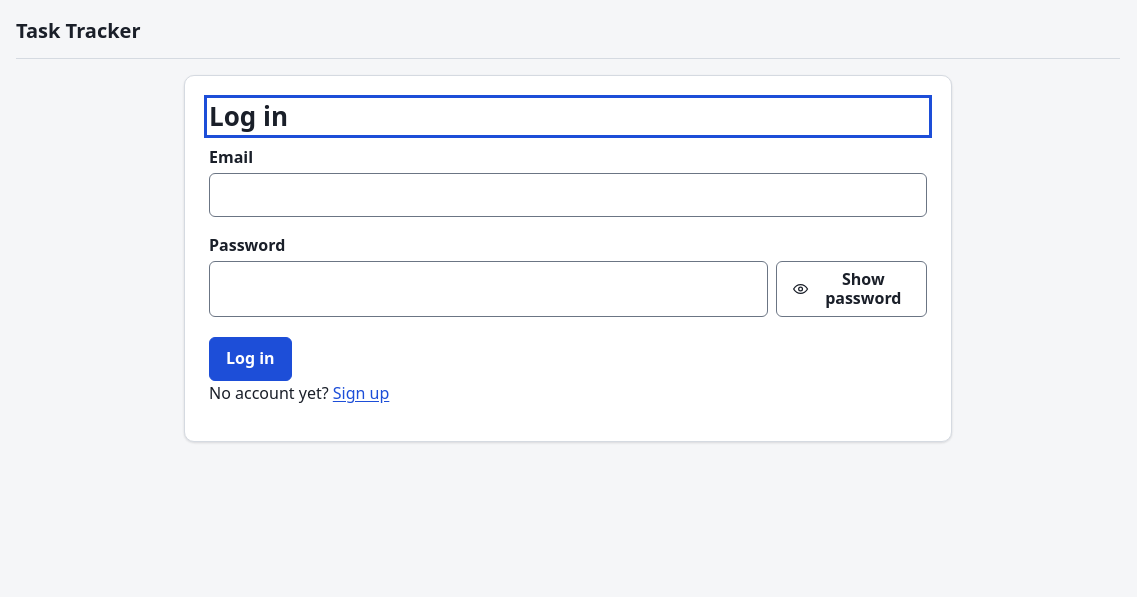
protected routes and "from" › login → back to the page you wanted
Type "alice@example.com" into the field labelled "Email" at (568, 194), box [209, 172, 927, 216]
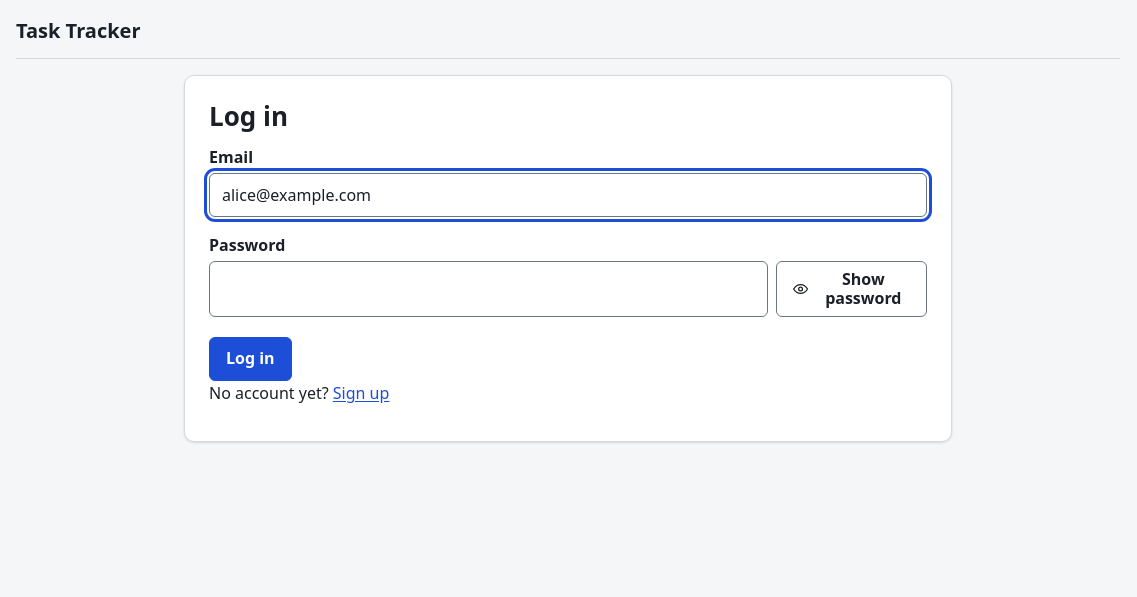
Type "DemoPass123" into the password field labelled "Password" at (489, 289), box [209, 260, 768, 317]
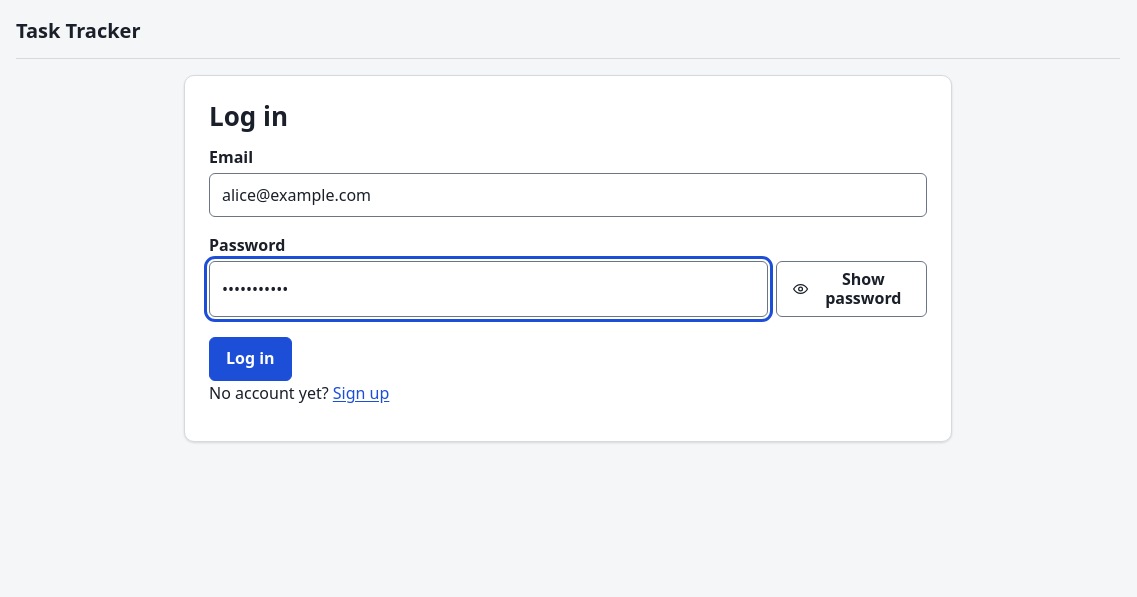
Click the button "Log in" at (250, 359), box [209, 337, 292, 381]
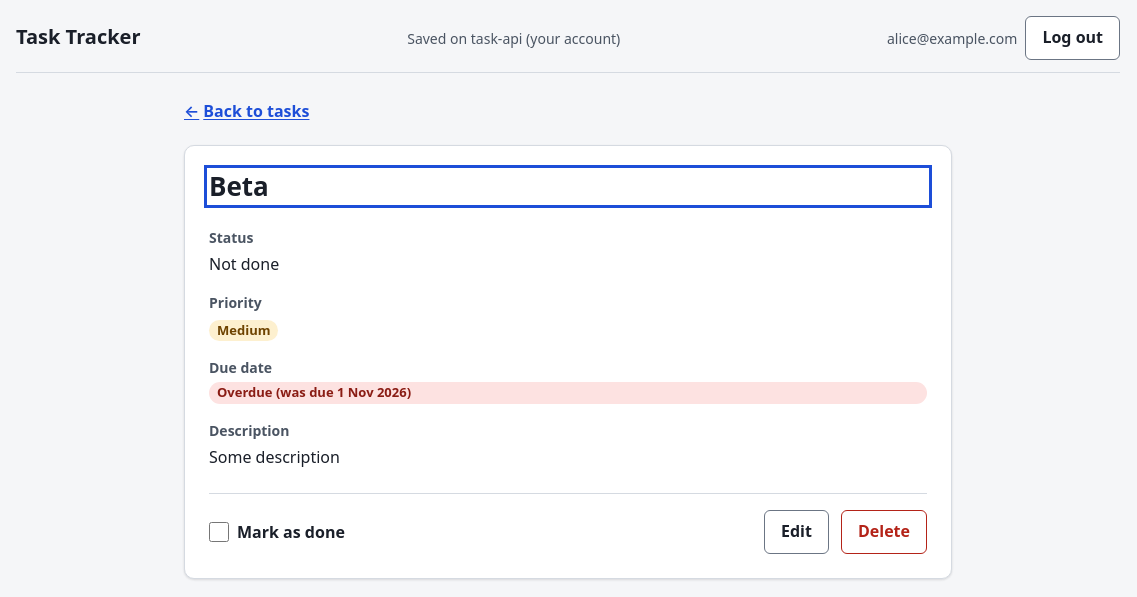
Check: the heading "Beta" is shown, box [209, 168, 269, 204]
